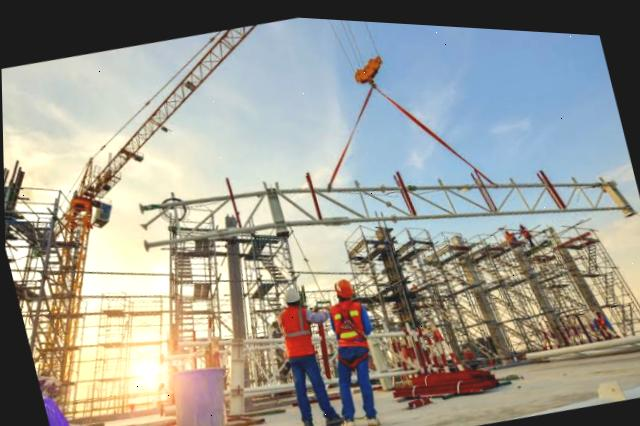helmet: (277, 279, 307, 304), (330, 270, 356, 294)
vest: (320, 291, 379, 355), (271, 300, 323, 363)
